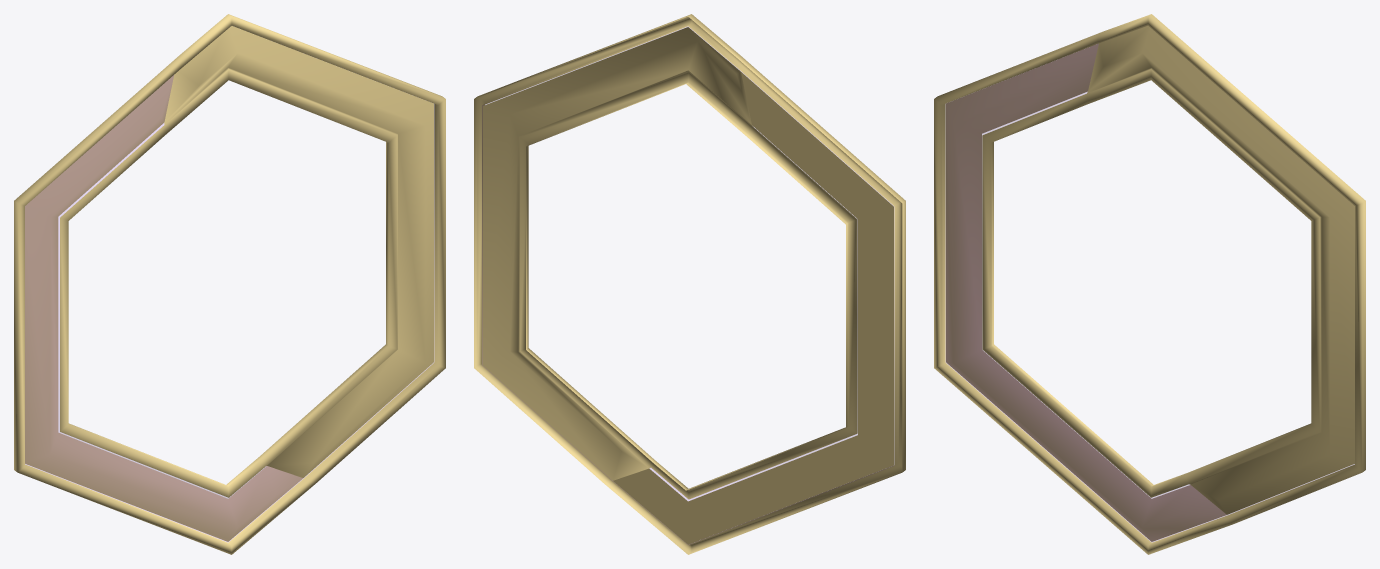
File: Ramka.glb
3 views of the same model, side by side, from view 1: azimuth 30°, elevation 25°; view 2: azimuth 150°, elevation 25°; view 3: azimuth 330°, elevation 25° (orthographic).
Visible parts, largest first — view 1: Circle.001; view 2: Circle.001; view 3: Circle.001.
Part boxes in pixels (box(x1,y1,x2,y2)): Circle.001: box(14, 14, 445, 554); Circle.001: box(474, 14, 905, 554); Circle.001: box(934, 14, 1365, 554).
Size of the model in its own units: 0.4996 by 0.6 by 0.0238.
Materials: 2 (1 with a texture image).
